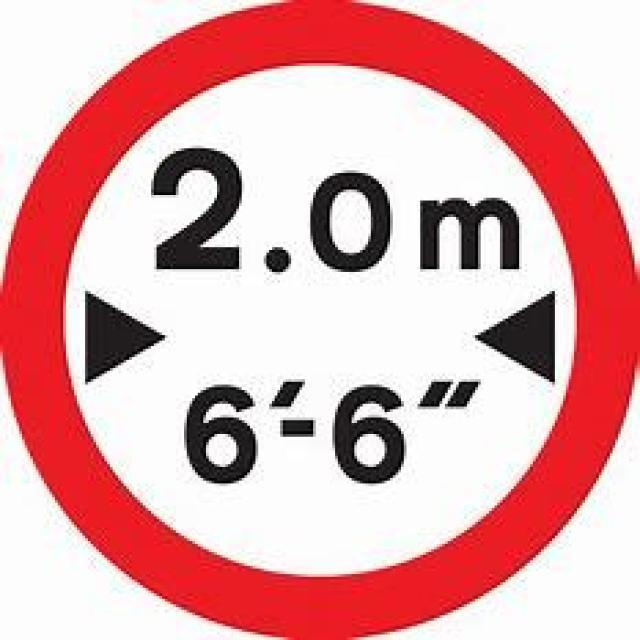width limit: (30, 37, 613, 613)
